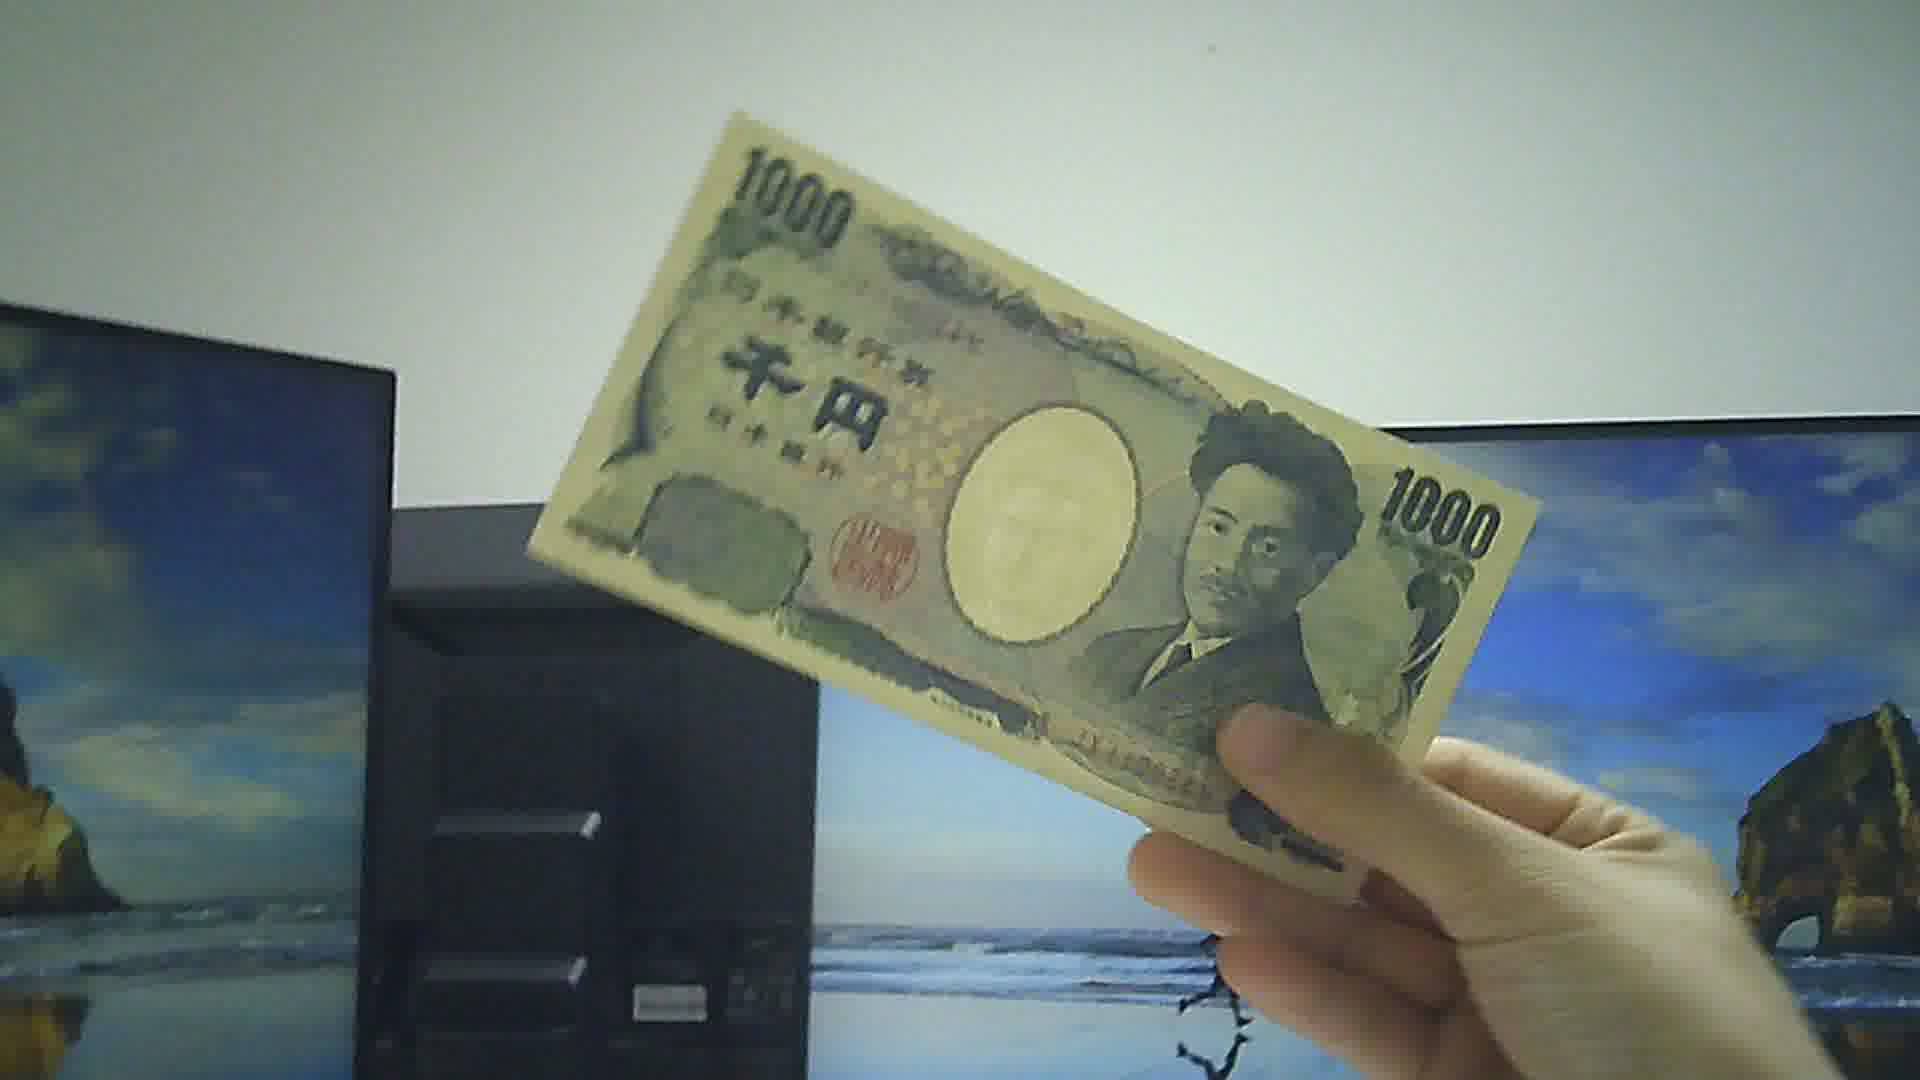1,000 Yen: (531, 105, 1531, 841)
